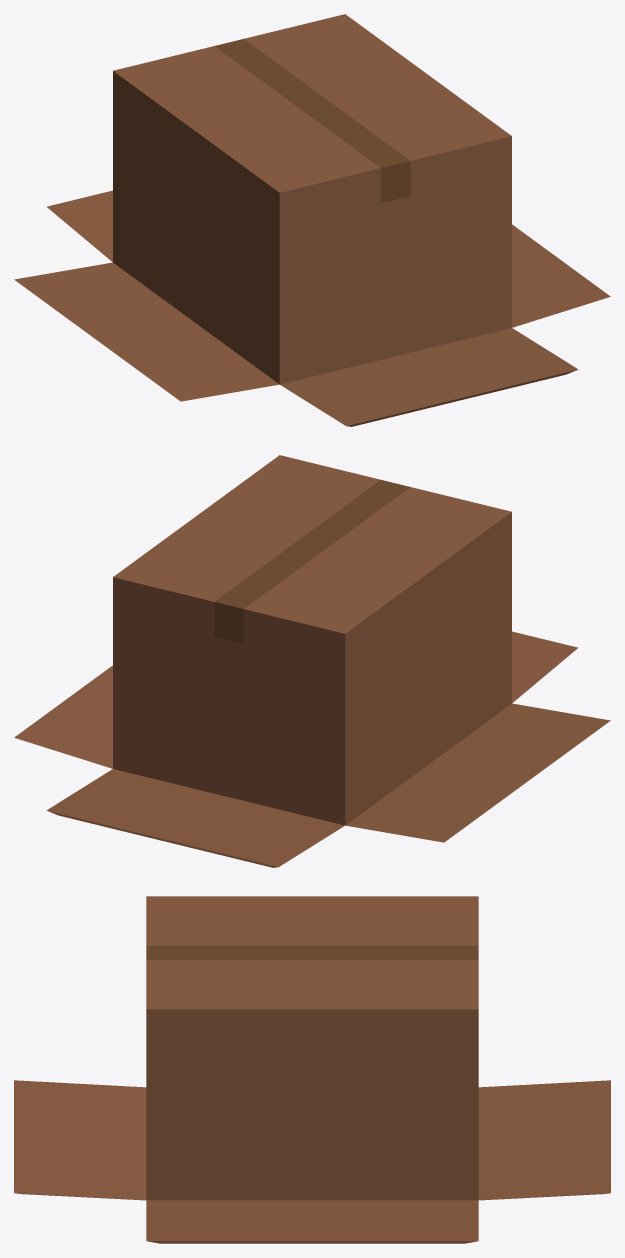
Rendered from cardboard.fbx.
The picture shows the model from 3 angles, top to bottom: view 1: azimuth 30°, elevation 25°; view 2: azimuth 150°, elevation 25°; view 3: azimuth 270°, elevation 25°; orthographic projection.
Visible parts, largest first — view 1: cardboard; view 2: cardboard; view 3: cardboard.
Part boxes in pixels (x1,y1,x2,y2): cardboard: [14, 14, 610, 426]; cardboard: [14, 455, 610, 867]; cardboard: [14, 896, 610, 1243].
Size of what is drawn, in the model's own units: 180 by 149 by 65.12.
